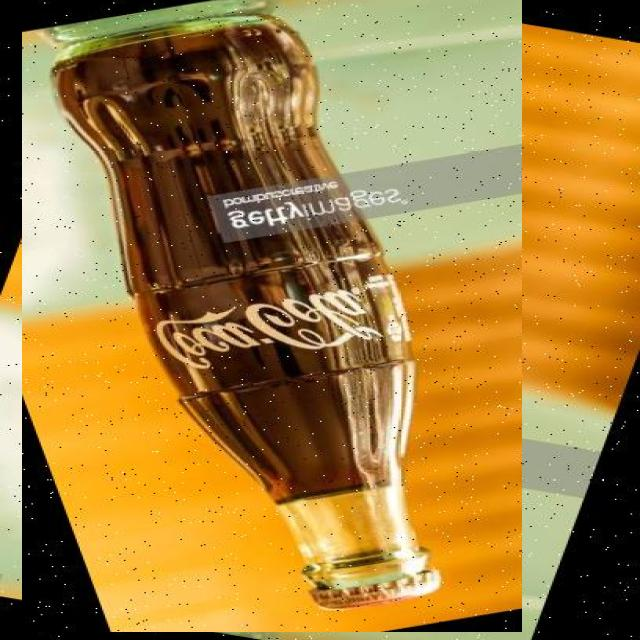coca-cola: (22, 0, 522, 632)
